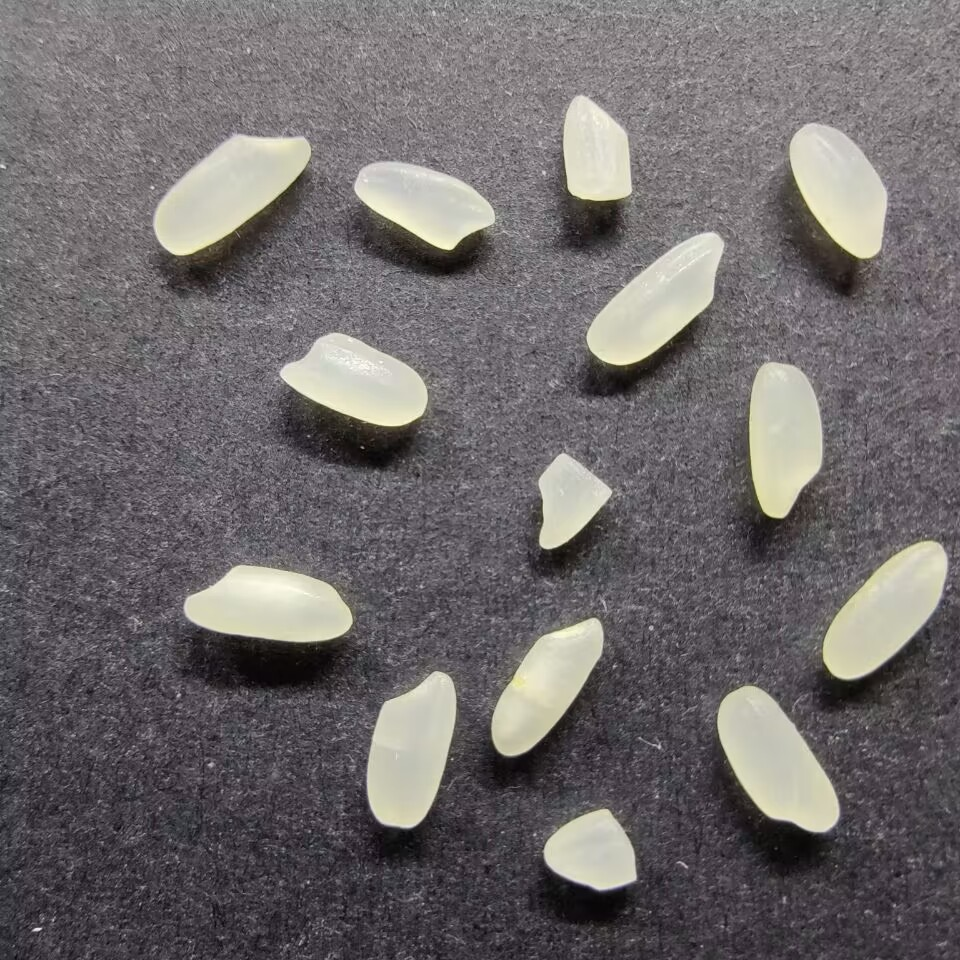broken: (559, 94, 636, 202), (533, 451, 614, 553), (542, 806, 639, 891)
rice: (151, 132, 311, 257), (585, 230, 727, 366), (818, 539, 952, 681), (717, 685, 842, 834), (491, 615, 608, 761), (364, 666, 457, 829), (278, 330, 429, 427), (788, 121, 891, 260), (180, 562, 354, 643), (352, 160, 497, 251), (747, 361, 826, 519)
